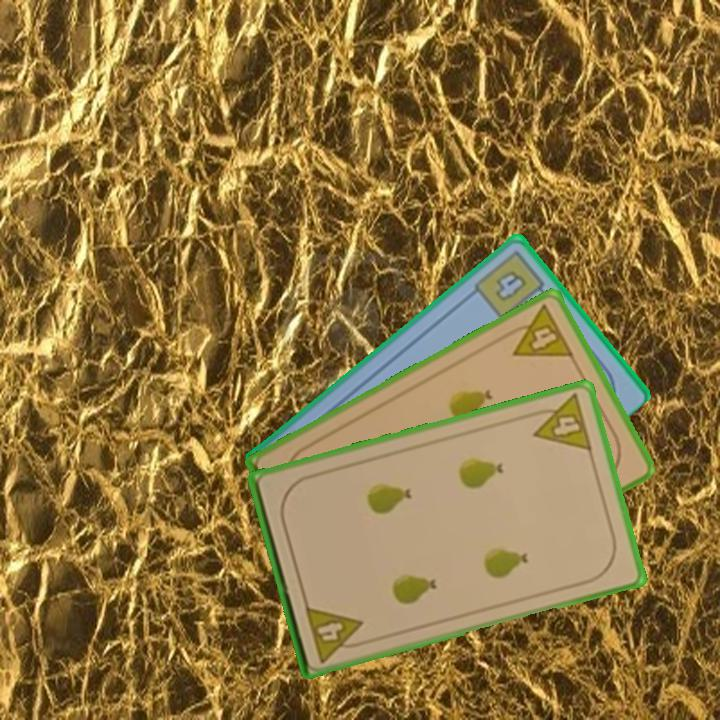4b: (470, 246, 552, 322)
4p: (499, 300, 577, 360), (525, 390, 595, 454), (301, 601, 370, 665)
